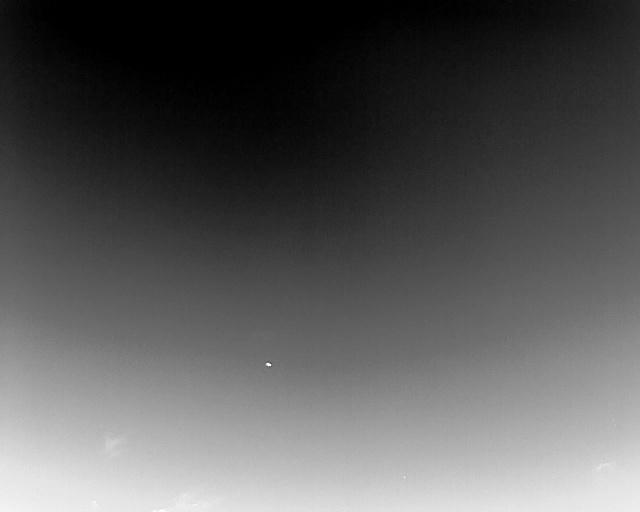fpv-drone: (264, 361, 272, 367)
